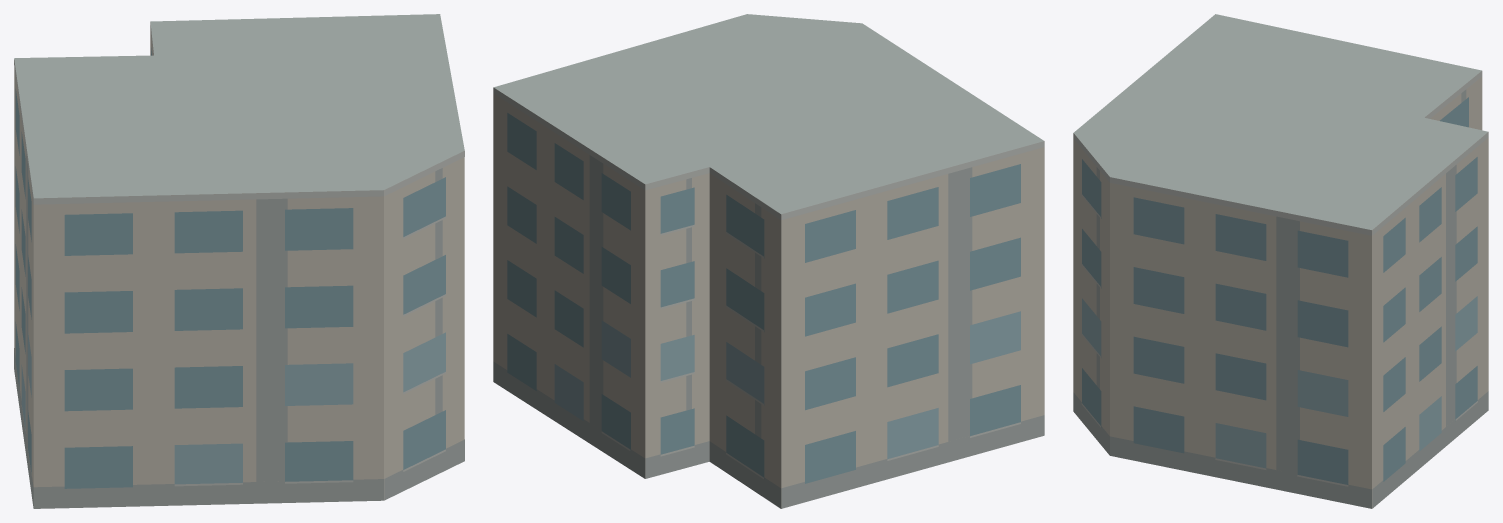
File: residential-0f461d24-6db6-4a54-8111-58a1ecabaf2e.glb
The picture shows the model from 3 angles, left to right: view 1: azimuth 30°, elevation 25°; view 2: azimuth 150°, elevation 25°; view 3: azimuth 270°, elevation 25°; orthographic projection. The views are drawn at different scales.
Parts seen in each view (by area): view 1: residential-0f461d24-6db6-4a54-8111-58a1ecabaf2e.tmp; view 2: residential-0f461d24-6db6-4a54-8111-58a1ecabaf2e.tmp; view 3: residential-0f461d24-6db6-4a54-8111-58a1ecabaf2e.tmp.
Boxes of the visible parts, bbox=[...] form: residential-0f461d24-6db6-4a54-8111-58a1ecabaf2e.tmp: bbox=[14, 14, 464, 508]; residential-0f461d24-6db6-4a54-8111-58a1ecabaf2e.tmp: bbox=[493, 14, 1044, 508]; residential-0f461d24-6db6-4a54-8111-58a1ecabaf2e.tmp: bbox=[1073, 14, 1488, 508].
Bounding box in the file's own units: 19.98 × 12 × 16.21.
